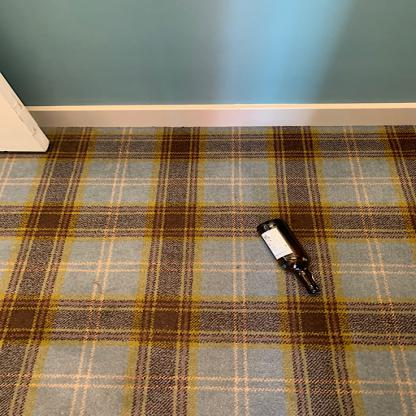trash: (254, 217, 324, 299)
